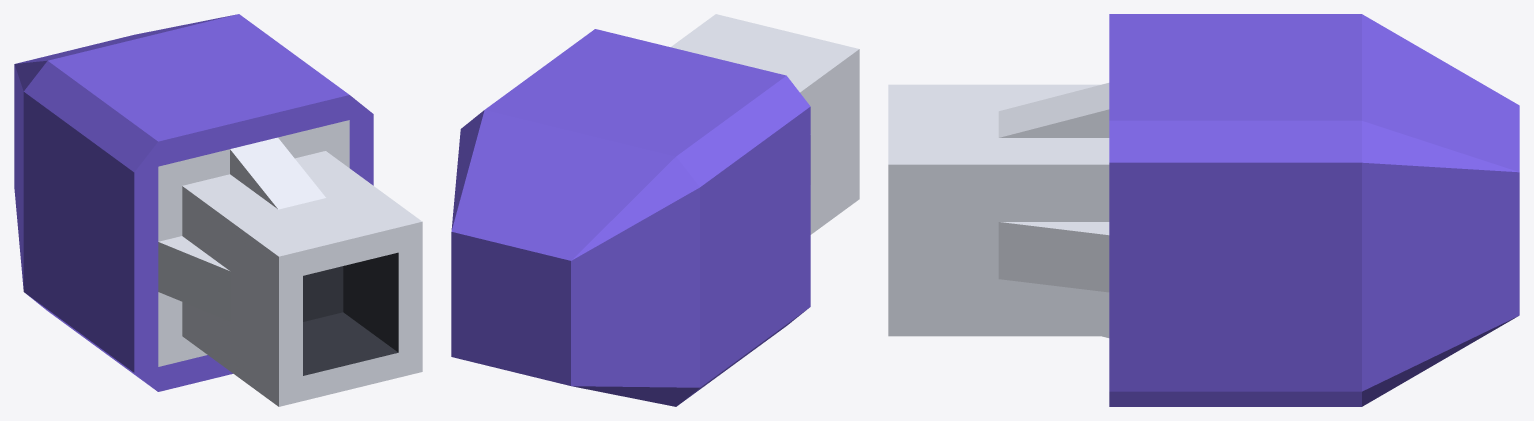
File: Stand_3.fbx
The picture shows the model from 3 angles, left to right: view 1: azimuth 30°, elevation 25°; view 2: azimuth 150°, elevation 25°; view 3: azimuth 270°, elevation 25°; orthographic projection. The views are drawn at different scales.
Parts seen in each view (by area): view 1: engine_detailed; view 2: engine_detailed; view 3: engine_detailed.
Boxes of the visible parts, box(x1,y1,x2,y2) form: engine_detailed: box(14, 14, 422, 406); engine_detailed: box(451, 14, 859, 406); engine_detailed: box(888, 14, 1519, 406).
Size of the model in its own units: 5 by 5 by 10.
